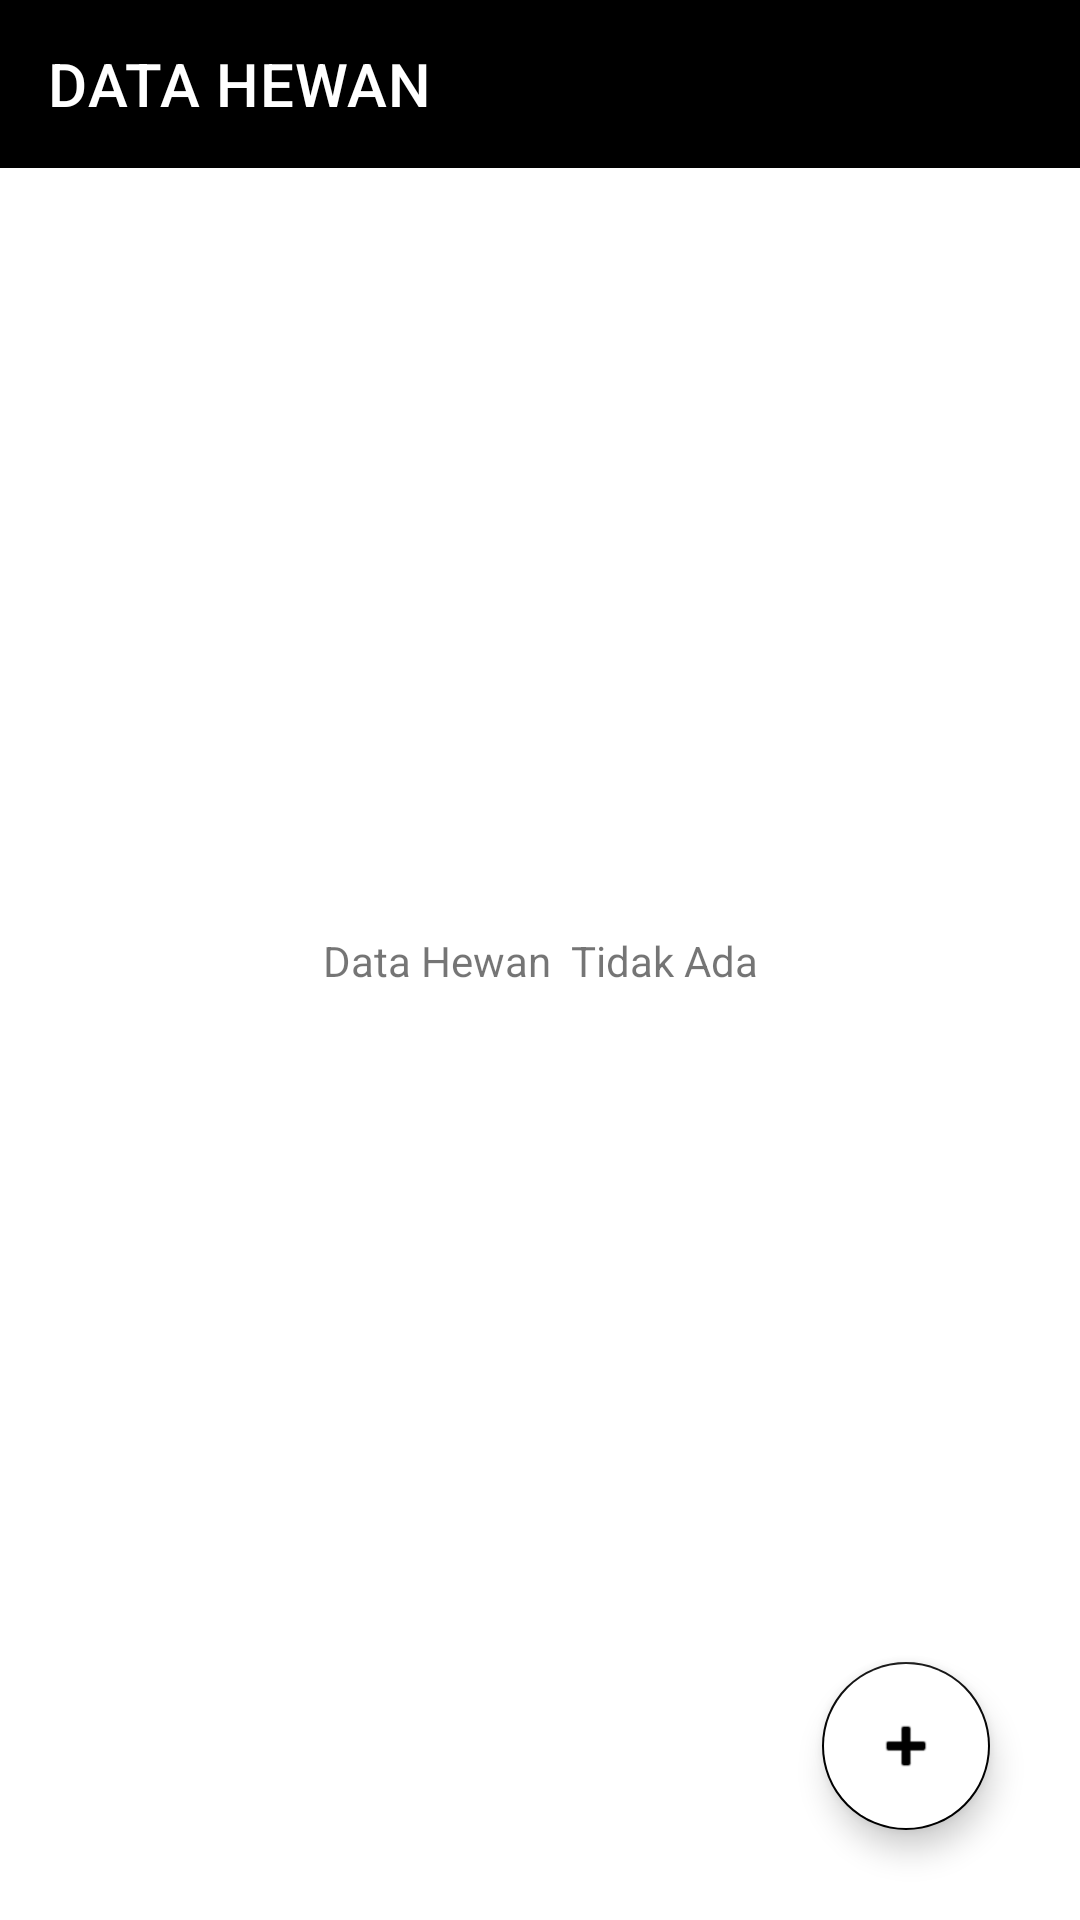

Icons on this 1080w x 1920h Android screen, each with the point to tap as [x,y]:
add: [906,1746]
